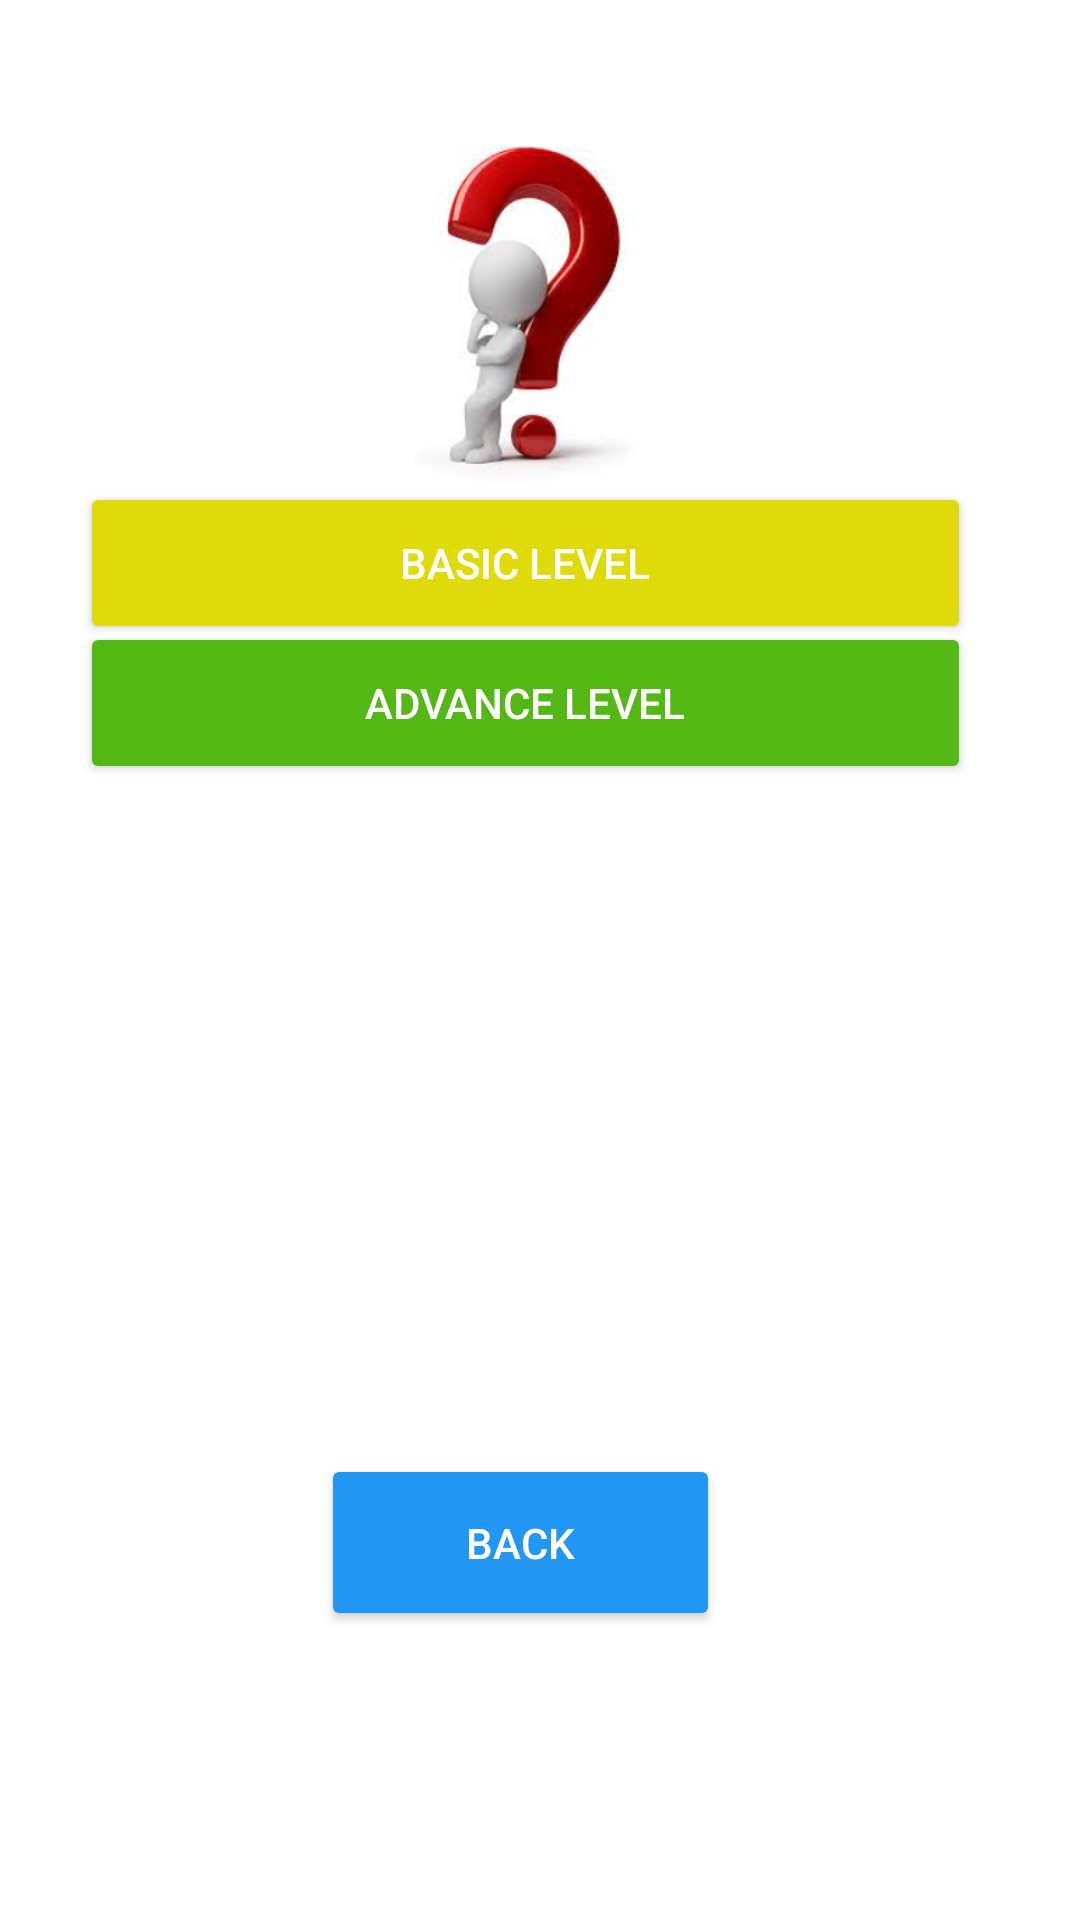

Named icons in this screenshot (1080px×1920px) and their bounding boxes, bbox=[x1, y1, x2, y2]:
que: bbox=[446, 146, 621, 464]
